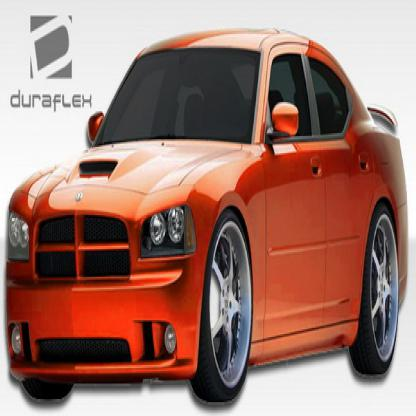Vehicle: (3, 26, 412, 414)
